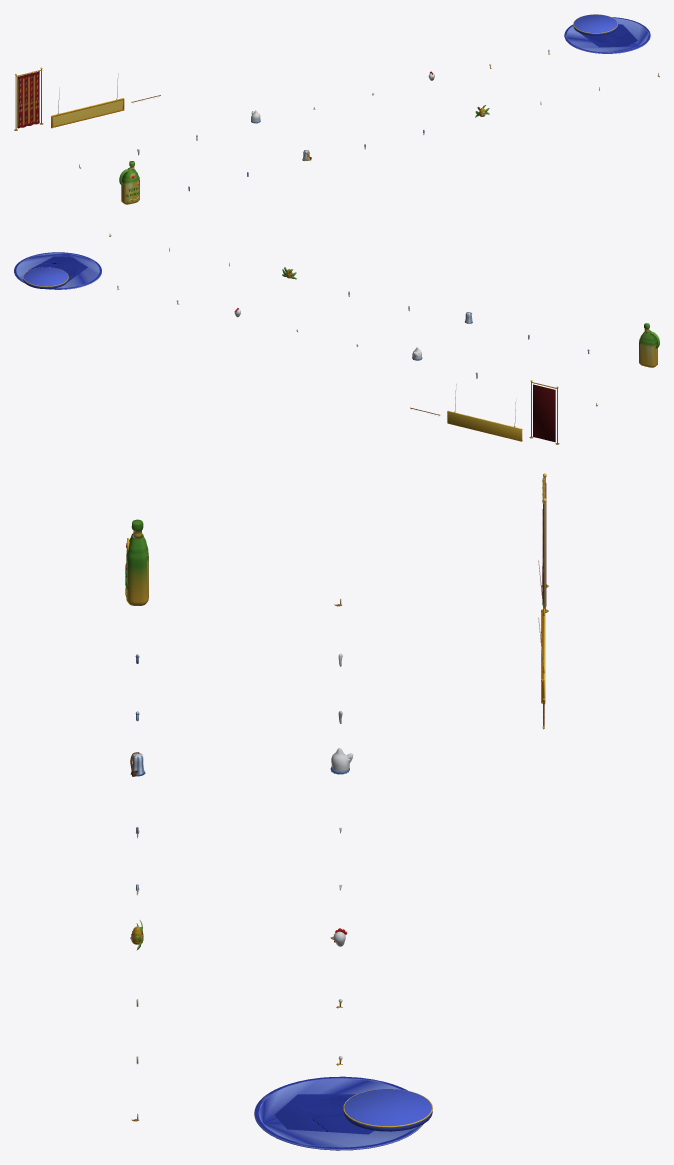
The model's file is prp_show_a.glb.
3 renders of one model, top to bottom at view 1: azimuth 30°, elevation 25°; view 2: azimuth 150°, elevation 25°; view 3: azimuth 270°, elevation 25°, orthographic. The views are drawn at different scales.
Visible parts, largest first — view 1: INST_prp_show_a_floor_disc, INST_prp_show_a_drape_cloth, INST_prp_show_a_banner_board, INST_prp_show_a_bottle_body; view 2: INST_prp_show_a_floor_disc, INST_prp_show_a_drape_cloth, INST_prp_show_a_banner_board, INST_prp_show_a_bottle_body; view 3: INST_prp_show_a_floor_disc, INST_prp_show_a_bottle_body.
Boxes of the visible parts, x1=… form: INST_prp_show_a_floor_disc: x1=564, y1=14, x2=650, y2=53; INST_prp_show_a_drape_cloth: x1=14, y1=67, x2=43, y2=130; INST_prp_show_a_banner_board: x1=51, y1=73, x2=124, y2=128; INST_prp_show_a_bottle_body: x1=119, y1=161, x2=139, y2=204; INST_prp_show_a_floor_disc: x1=14, y1=252, x2=101, y2=289; INST_prp_show_a_drape_cloth: x1=529, y1=380, x2=559, y2=444; INST_prp_show_a_banner_board: x1=447, y1=384, x2=522, y2=441; INST_prp_show_a_bottle_body: x1=639, y1=323, x2=659, y2=367; INST_prp_show_a_floor_disc: x1=254, y1=1076, x2=432, y2=1150; INST_prp_show_a_bottle_body: x1=125, y1=519, x2=148, y2=605.
Size of the model in its own units: 39.54 by 4.1 by 12.51.
